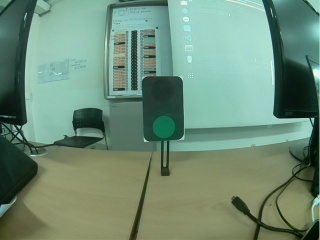green_light: (143, 76, 188, 139)
